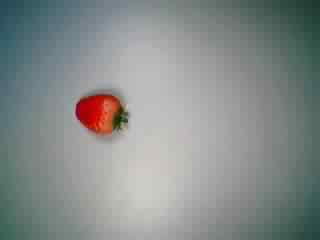strawberry: (67, 81, 135, 145)
